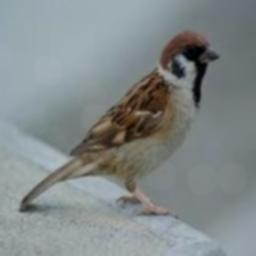Sparrow: (20, 29, 218, 215)
